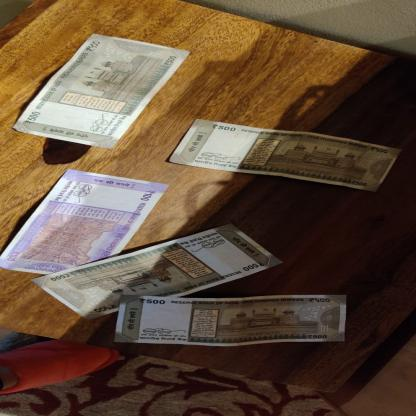New100Back: (0, 169, 170, 275)
New500Back: (26, 222, 286, 321), (12, 33, 192, 150), (166, 118, 406, 192), (111, 293, 349, 347)
